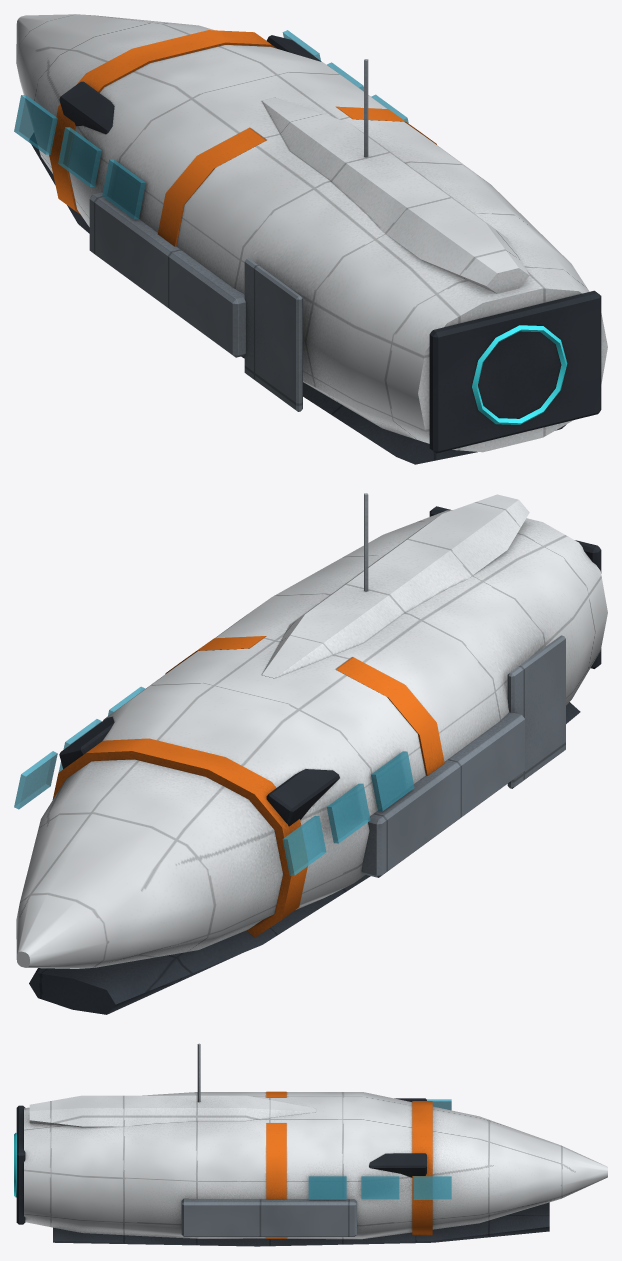
The model's file is casco_nave_mediano.fbx.
3 views of the same model, one above another, from view 1: azimuth 30°, elevation 25°; view 2: azimuth 150°, elevation 25°; view 3: azimuth 270°, elevation 25° (orthographic). The views are drawn at different scales.
Parts seen in each view (by area): view 1: casco_nave_mediano, casco_nave_mediano_cristal, casco_nave_mediano_neon; view 2: casco_nave_mediano, casco_nave_mediano_cristal; view 3: casco_nave_mediano, casco_nave_mediano_cristal.
Boxes of the visible parts, bbox=[...] form: casco_nave_mediano: bbox=[16, 14, 607, 464]; casco_nave_mediano_cristal: bbox=[14, 30, 408, 219]; casco_nave_mediano_neon: bbox=[472, 325, 567, 424]; casco_nave_mediano: bbox=[16, 493, 607, 1014]; casco_nave_mediano_cristal: bbox=[14, 686, 414, 875]; casco_nave_mediano: bbox=[16, 1043, 607, 1246]; casco_nave_mediano_cristal: bbox=[308, 1099, 451, 1199].
Size of the model in its own units: 6.9 by 6.78 by 20.34.
Materials: 3 (3 with a texture image).
